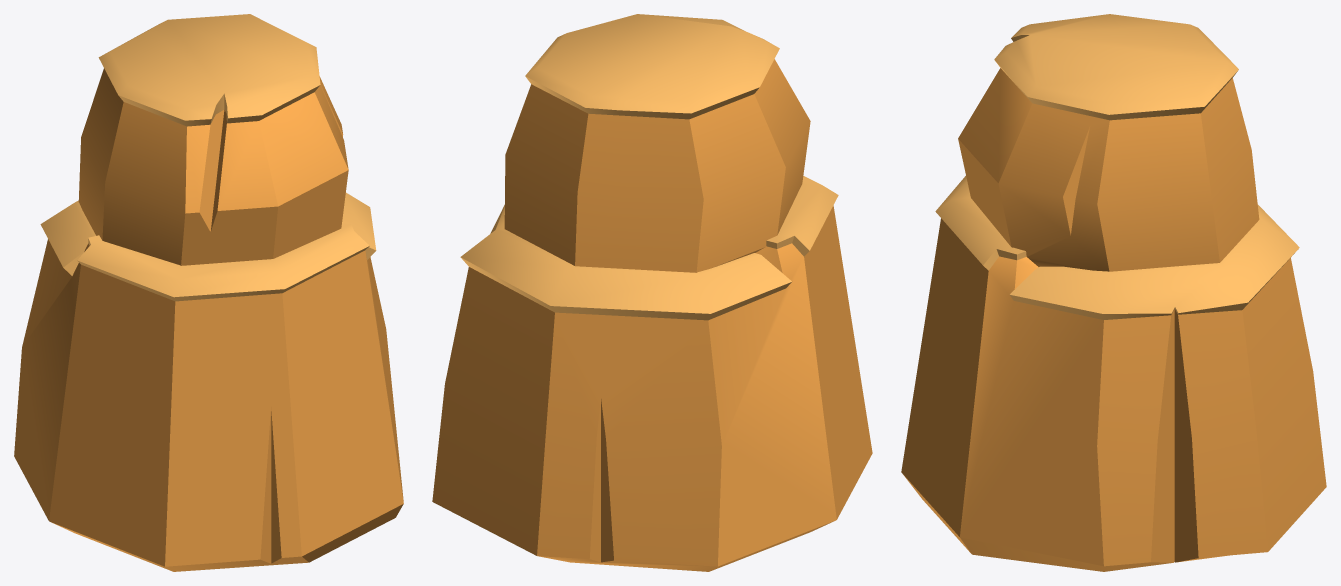
Rendered from Rock_14.fbx.
The picture shows the model from 3 angles, left to right: view 1: azimuth 30°, elevation 25°; view 2: azimuth 150°, elevation 25°; view 3: azimuth 270°, elevation 25°; orthographic projection. The views are drawn at different scales.
Parts seen in each view (by area): view 1: Rock_14, Rock_14_Snow; view 2: Rock_14, Rock_14_Snow; view 3: Rock_14, Rock_14_Snow.
Boxes of the visible parts, x1,y1,x2,y2 form: Rock_14: (14,68,403,571); Rock_14_Snow: (40,14,376,301); Rock_14: (432,59,872,571); Rock_14_Snow: (460,14,838,320); Rock_14: (901,68,1326,571); Rock_14_Snow: (935,14,1299,319).
Size of the model in its own units: 259 by 317 by 272.
